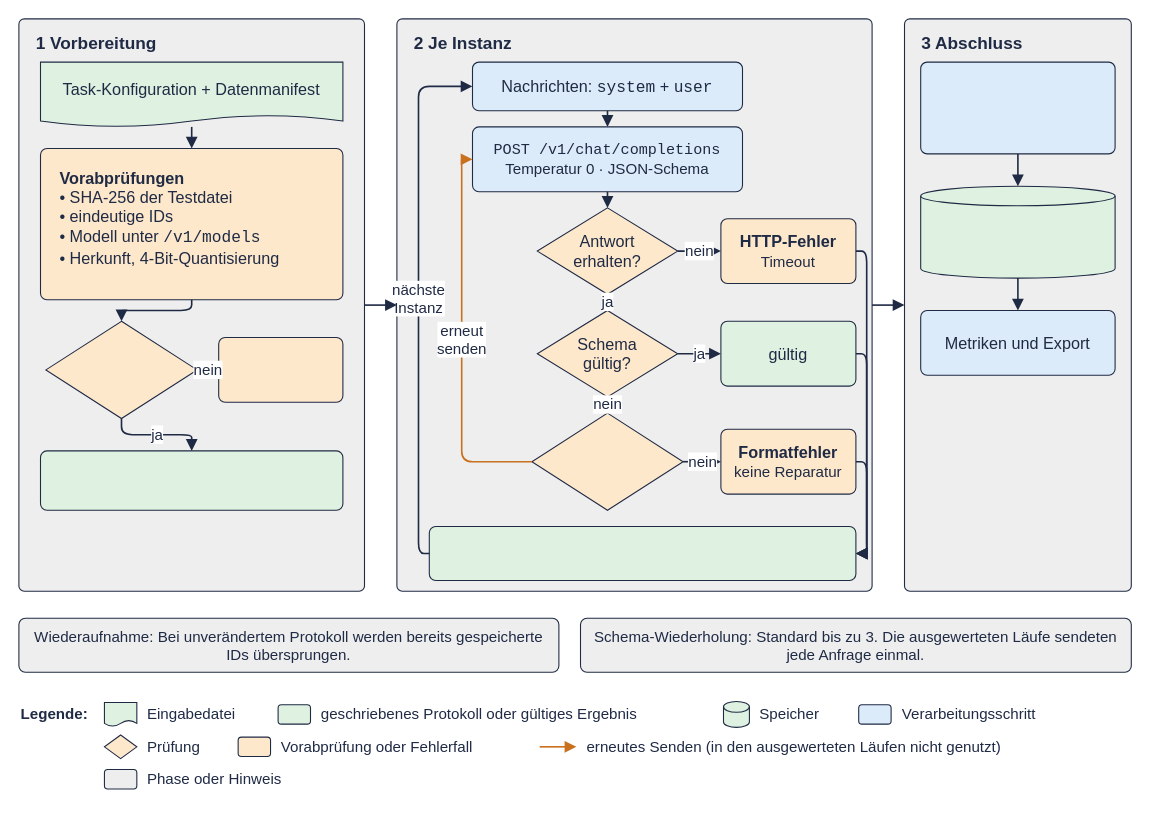
Some shapes in this 1150 by 814 pixel diagram are drawn without their labels. Each missing label, with the centre of its shape:
Abbruch kein Request: point (280, 369)
alle bestanden?: point (121, 369)
Ergebnisspeicher JSONL + SQLite: point (1017, 231)
Laufmanifest schreiben: point (191, 480)
Nach der letzten Instanz: normalisieren ( comparison_v1 ): point (1017, 107)
unter 3 Wieder- holungen?: point (607, 461)
Zeile in predictions.jsonl Rohantworten · Status · Versuche: point (642, 552)
